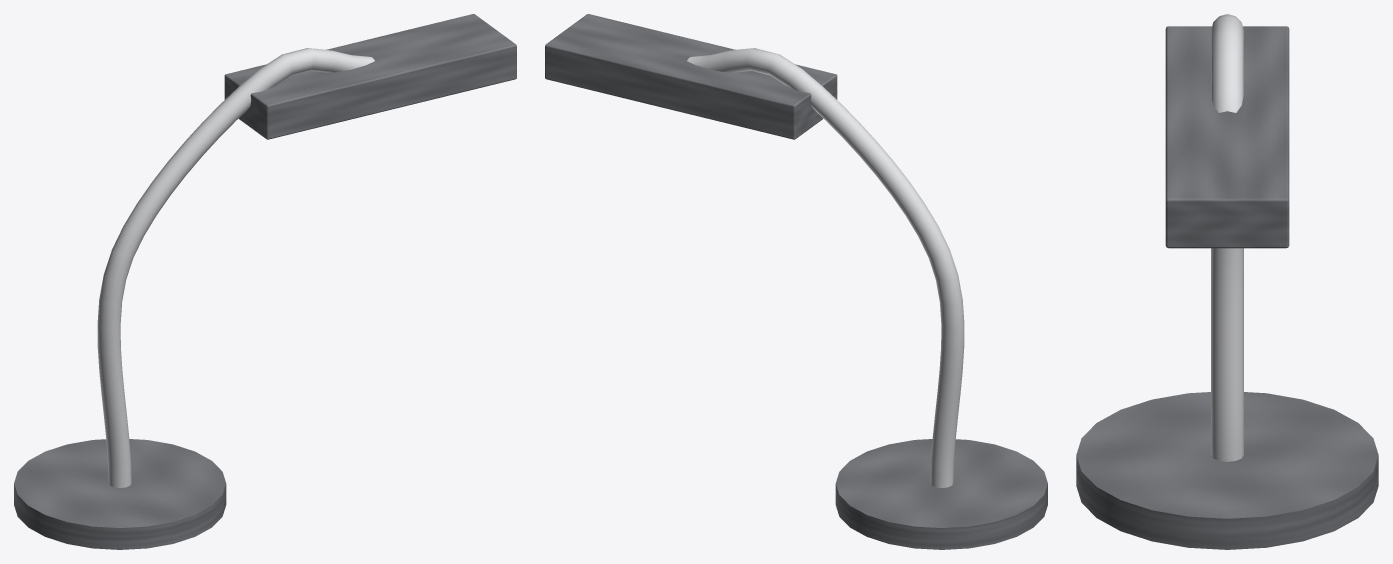
File: fps-weapon-set-and-firing-range-workbench-light-e40b67cf__19539.glb
The picture shows the model from 3 angles, left to right: view 1: azimuth 30°, elevation 25°; view 2: azimuth 150°, elevation 25°; view 3: azimuth 270°, elevation 25°; orthographic projection. The views are drawn at different scales.
Visible parts, largest first — view 1: workbench-light; view 2: workbench-light; view 3: workbench-light.
Part boxes in pixels (x1,y1,x2,y2): workbench-light: [14, 14, 516, 549]; workbench-light: [545, 14, 1047, 549]; workbench-light: [1076, 14, 1378, 549].
Size of the model in its own units: 0.56 by 0.469 by 0.22.
Materials: 3 (1 with a texture image).
